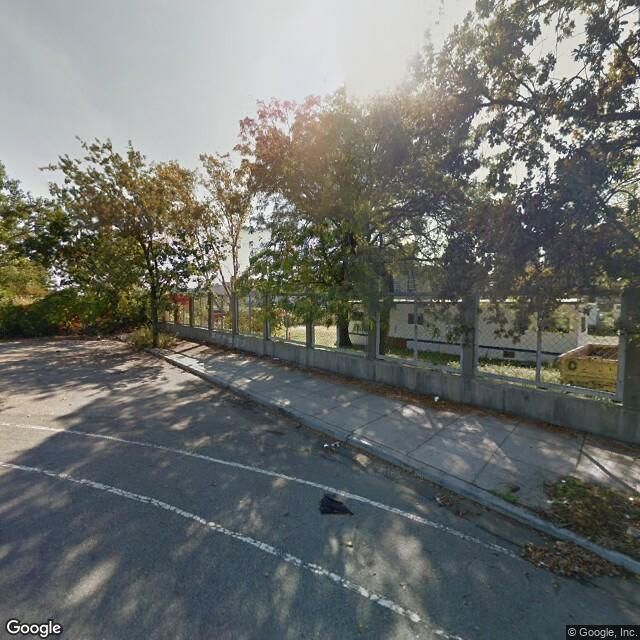litter: (318, 492, 356, 519), (322, 438, 342, 451), (432, 494, 445, 506), (433, 394, 440, 406), (224, 413, 232, 419)
